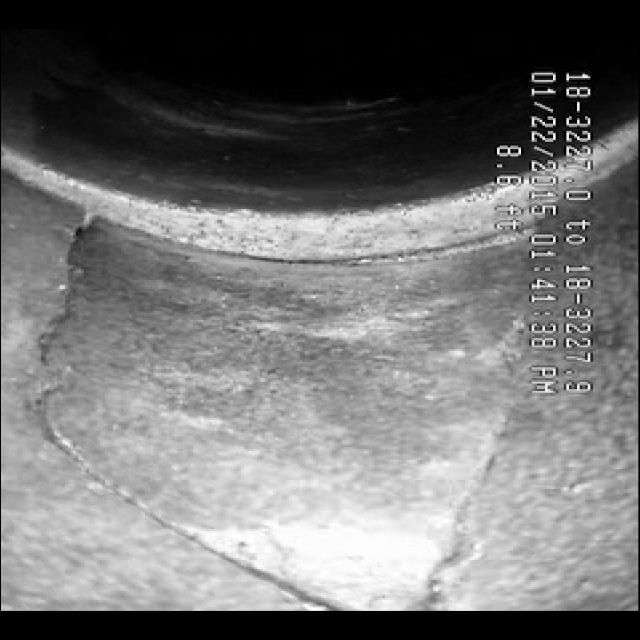Crack: (1, 265, 221, 568), (397, 426, 542, 588)
